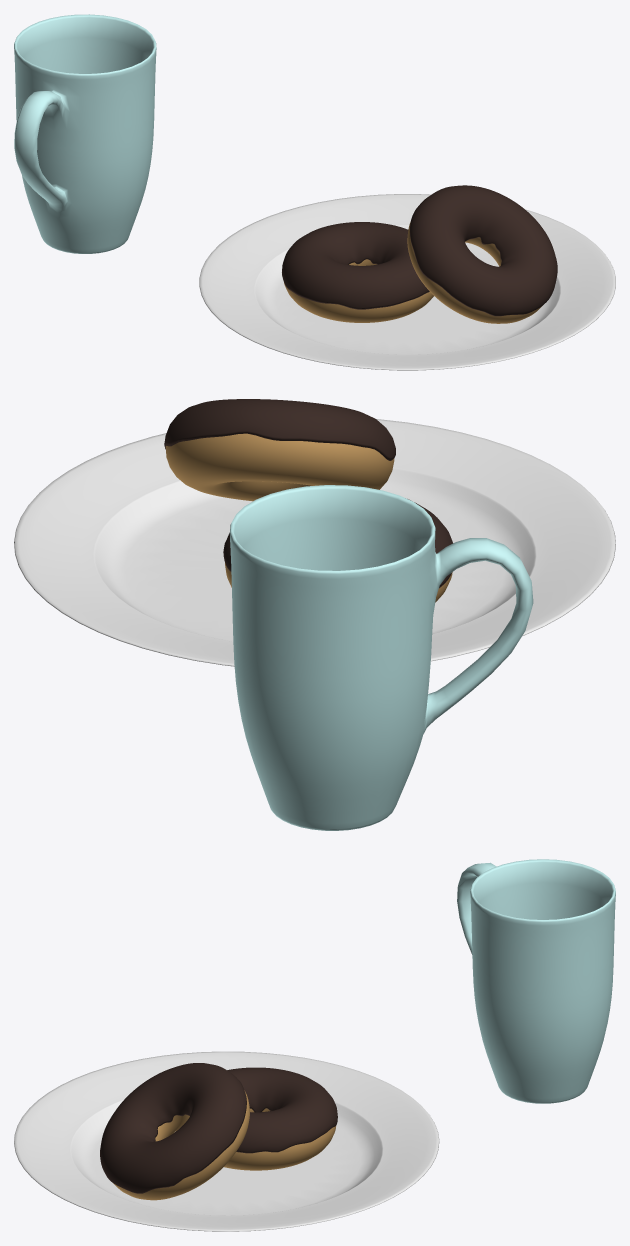
Rendered from donut.fbx.
3 renders of one model, top to bottom at view 1: azimuth 30°, elevation 25°; view 2: azimuth 150°, elevation 25°; view 3: azimuth 270°, elevation 25°, orthographic. The views are drawn at different scales.
Parts seen in each view (by area): view 1: Cylinder.002; view 2: Cylinder.002; view 3: Cylinder.002.
Part boxes in pixels (x1,y1,x2,y2): Cylinder.002: (14,14,615,370); Cylinder.002: (14,399,615,830); Cylinder.002: (14,859,615,1231).
Bounding box in the file's own units: 999 × 407 × 1129.
